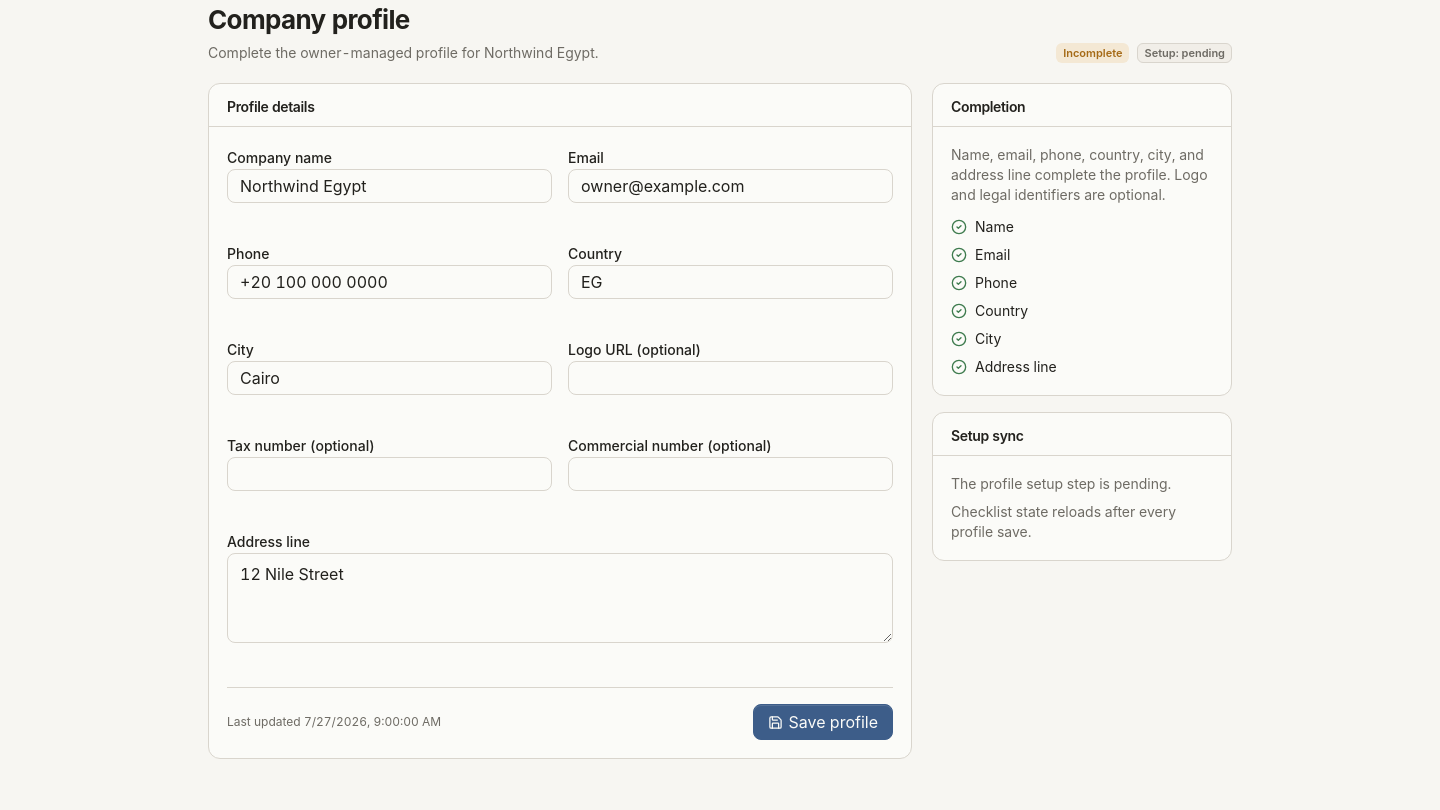
Test: CompanyProfilePage › maps backend field feedback without discarding the user's draft
This screenshot has width=1440, height=810.
Replace the text in the field labelled "Email" with "taken@example.com" at (730,186), box [568,169,893,203]
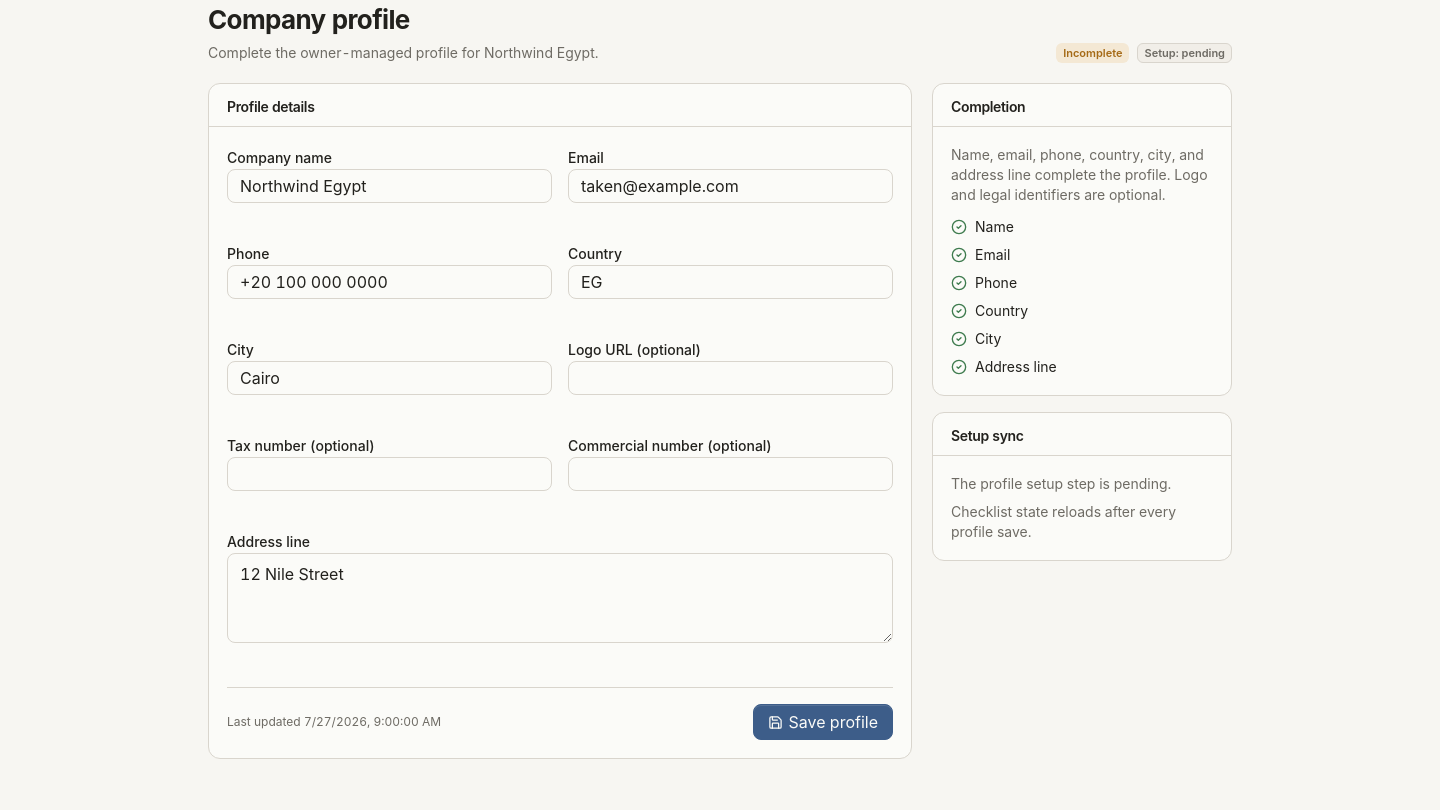
Click the button "Save profile" at (823,722), box [752,704,893,740]
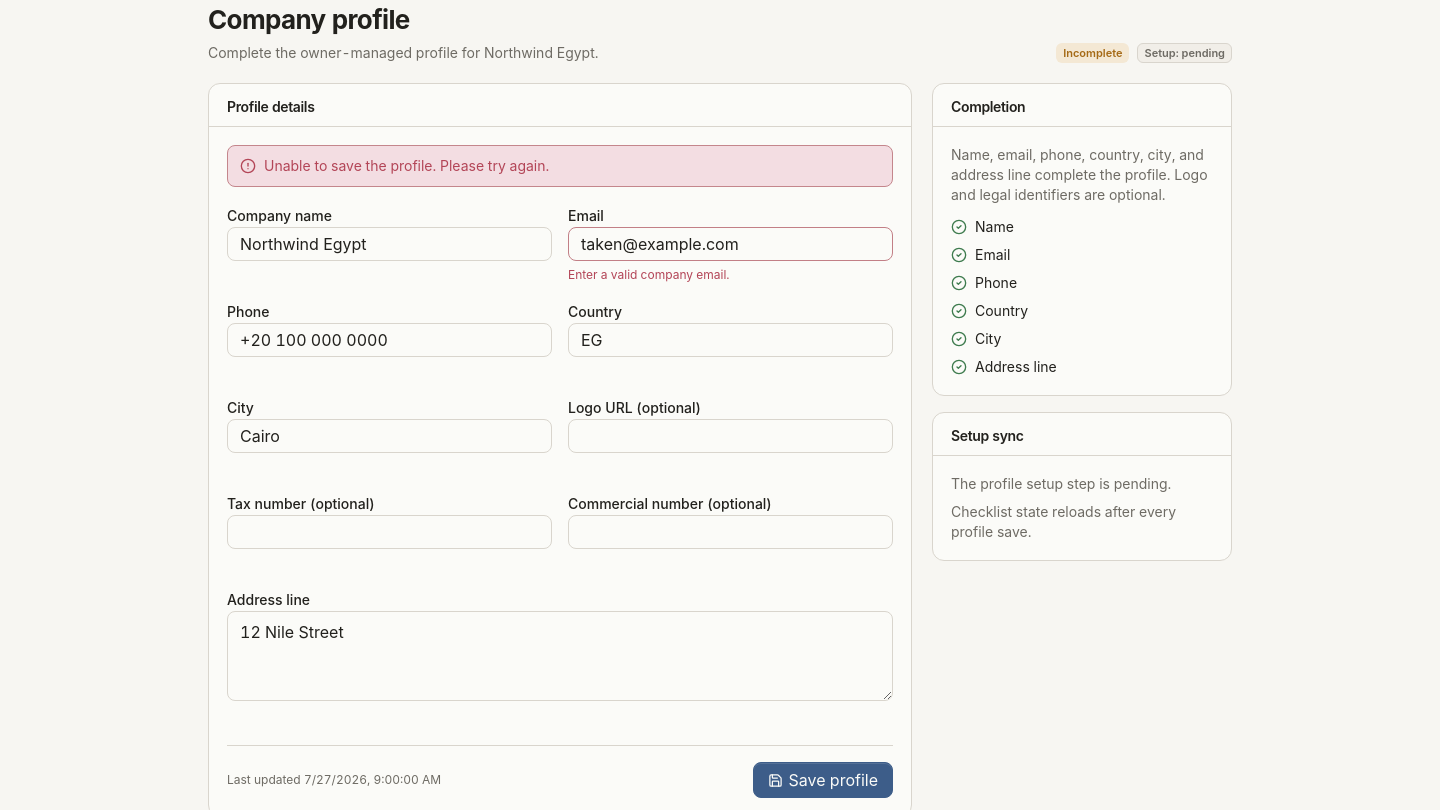
Check: the text "Enter a valid company email." is shown, box [568,267,730,282]
